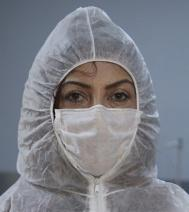OK: (53, 70, 142, 179)
